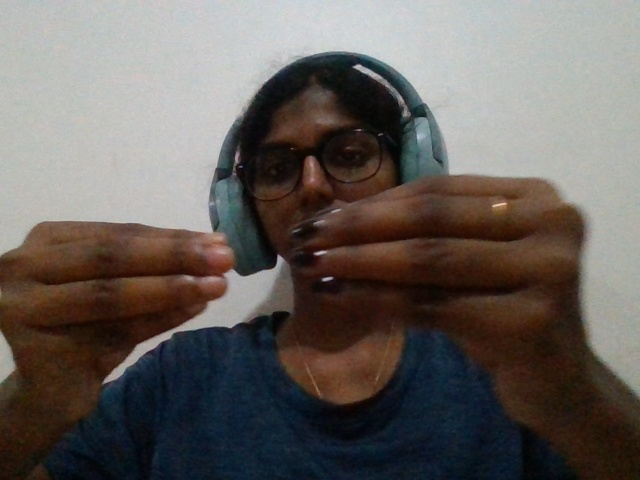More: (3, 142, 617, 465)
